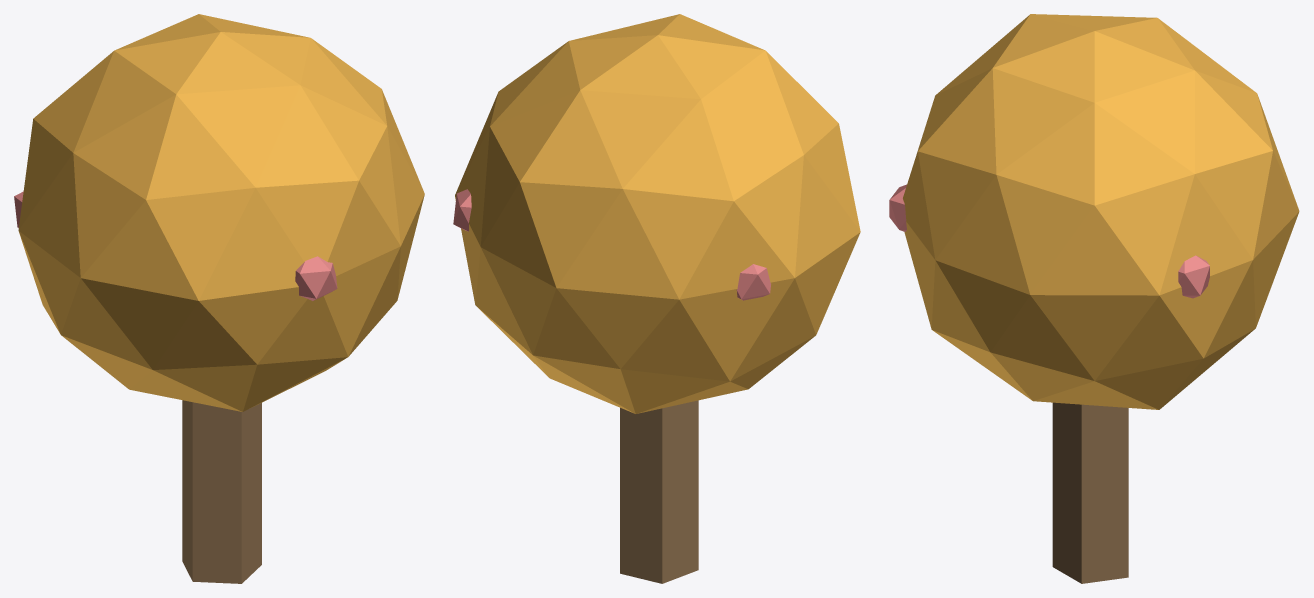
Rendered from fruit-tree.glb.
The picture shows the model from 3 angles, left to right: view 1: azimuth 30°, elevation 25°; view 2: azimuth 150°, elevation 25°; view 3: azimuth 270°, elevation 25°; orthographic projection.
Visible parts, largest first — view 1: jungle-fruit-tree; view 2: jungle-fruit-tree; view 3: jungle-fruit-tree.
Part boxes in pixels (x1=…): jungle-fruit-tree: x1=14, y1=14, x2=424, y2=583; jungle-fruit-tree: x1=453, y1=14, x2=860, y2=583; jungle-fruit-tree: x1=889, y1=14, x2=1299, y2=583.
Size of the model in its own units: 0.6642 by 0.9869 by 0.6842.
